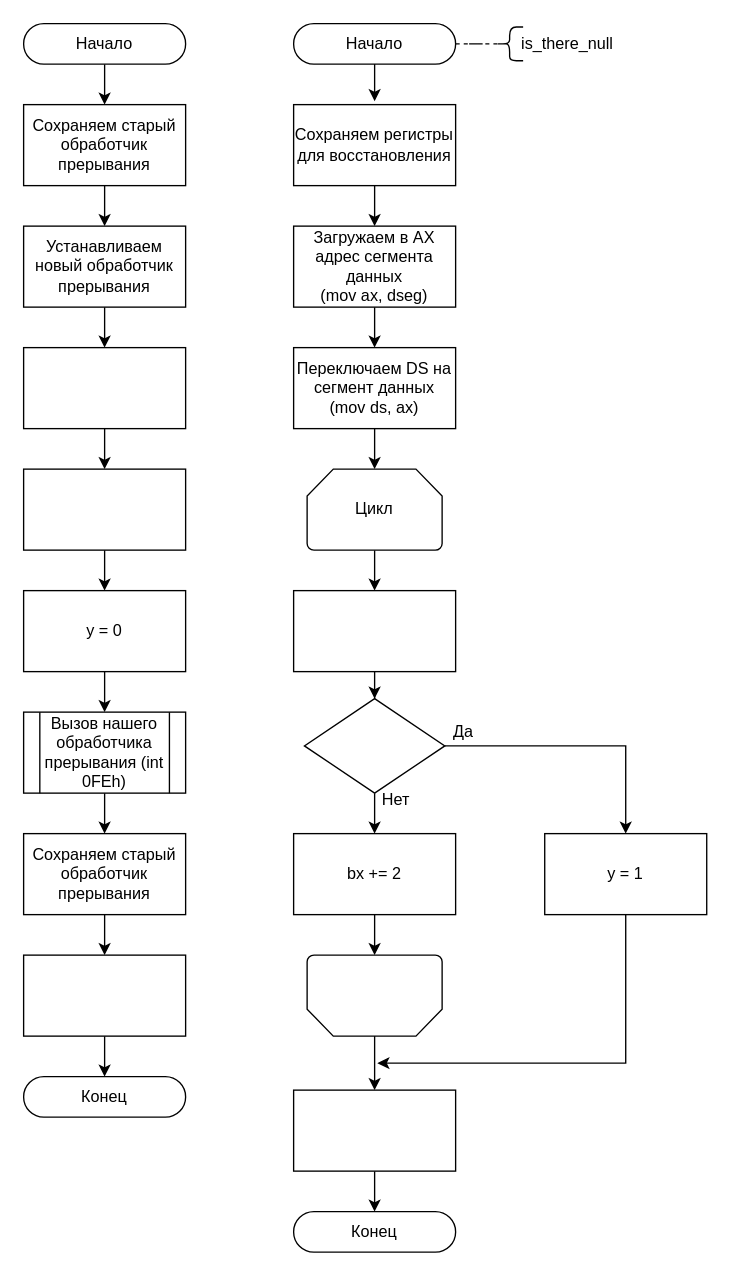
Some shapes in this 730 by 1276 pixel diagram are drawn without their labels. The shapes that lost their labels are listed below. From the top down, each one's centre as x and y in pixels, then its label:
(x=104, y=387): Кладем в bx начало массива x
(x=104, y=509): Устанавливаем счетчик cx на 8
(x=374, y=630): Загружаем в dx текущий элемент массива [bx]
(x=374, y=745): dx == 0
(x=104, y=995): Восстанавливаем старый обработчик прерывания
(x=374, y=995): пока cx != 0 cx -= 1
(x=374, y=1130): Восстанавливаем регистры
